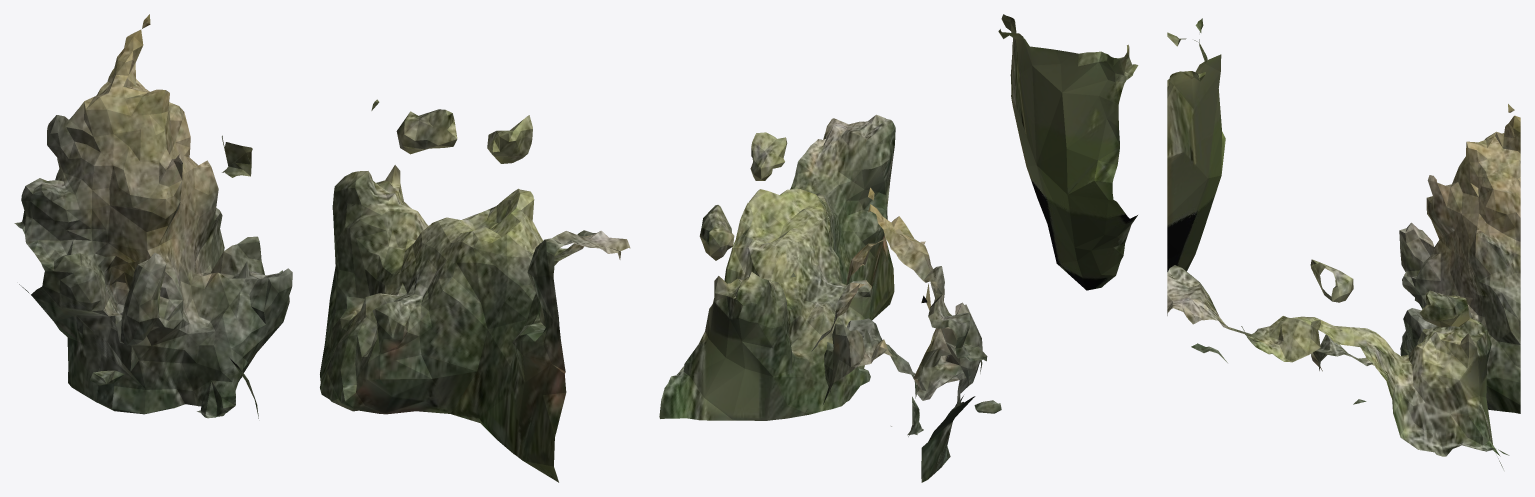
The picture shows the model from 3 angles, left to right: view 1: azimuth 30°, elevation 25°; view 2: azimuth 150°, elevation 25°; view 3: azimuth 270°, elevation 25°; orthographic projection. The views are drawn at different scales.
Bounding box in the file's own units: 11.8 × 11.8 × 11.8.
5 materials, 5 textured.
